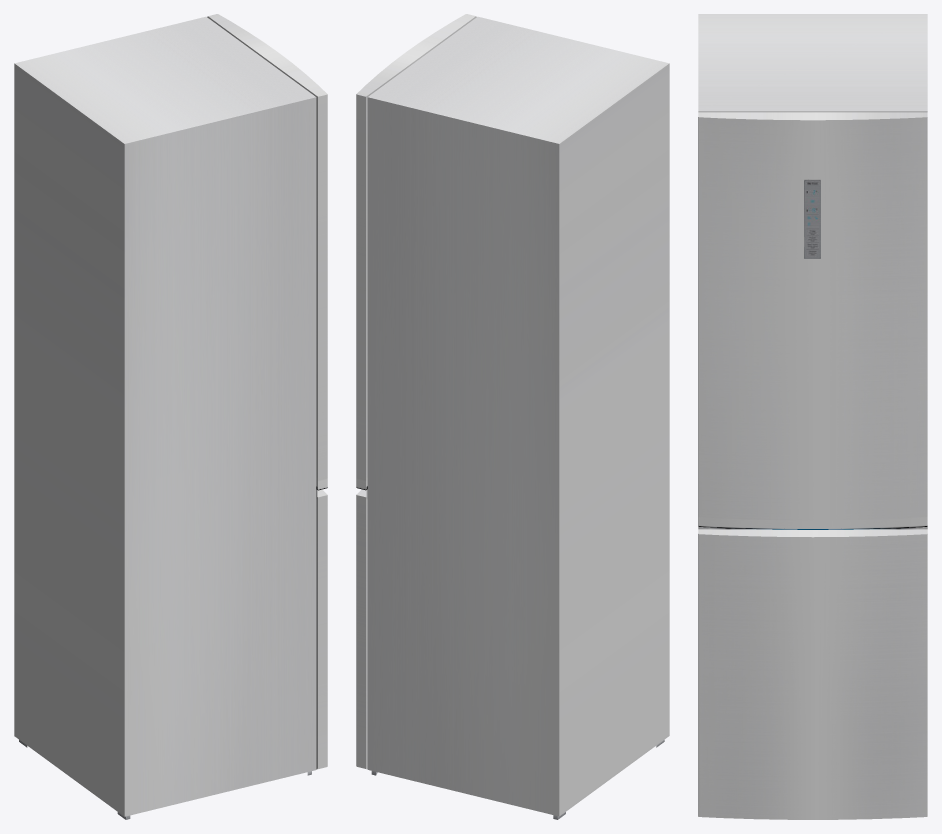
File: 70842FAC-094D-4F2E-9AD1-76A0988BC5F4.dae
3 views of the same model, side by side, from view 1: azimuth 30°, elevation 25°; view 2: azimuth 150°, elevation 25°; view 3: azimuth 270°, elevation 25° (orthographic). The views are drawn at different scales.
Visible parts, largest first — view 1: refrigerator_white_1-side; view 2: refrigerator_white_1-side; view 3: refrigerator_white_1-side.
Part boxes in pixels (<box>): refrigerator_white_1-side: <box>14,14,327,819</box>; refrigerator_white_1-side: <box>356,14,669,819</box>; refrigerator_white_1-side: <box>698,14,927,819</box>.
Bounding box in the file's own units: 0.6523 × 0.595 × 2.02.
Materials: 3 (3 with a texture image).
